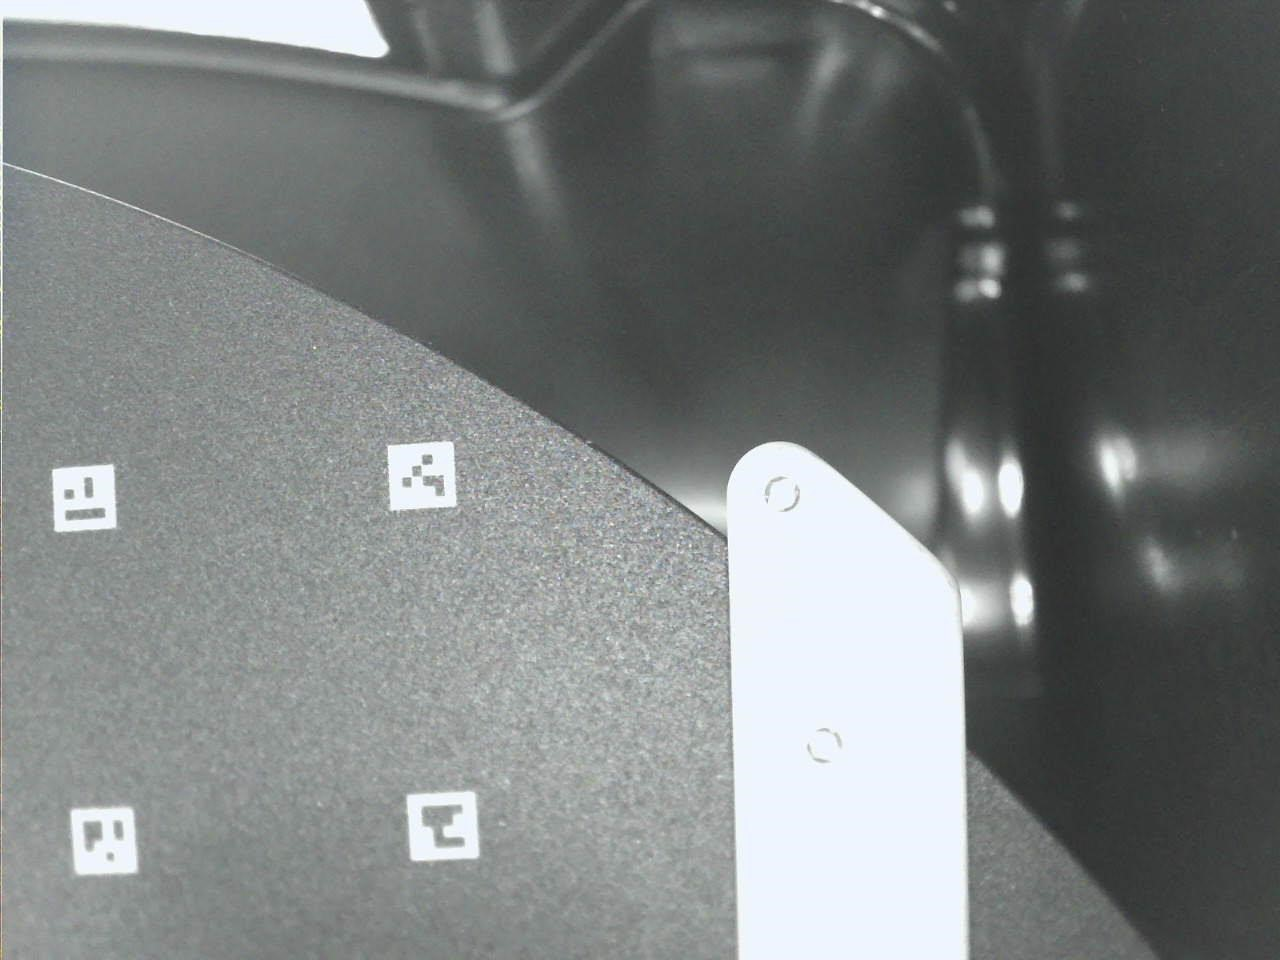forktip: (712, 417, 987, 960)
